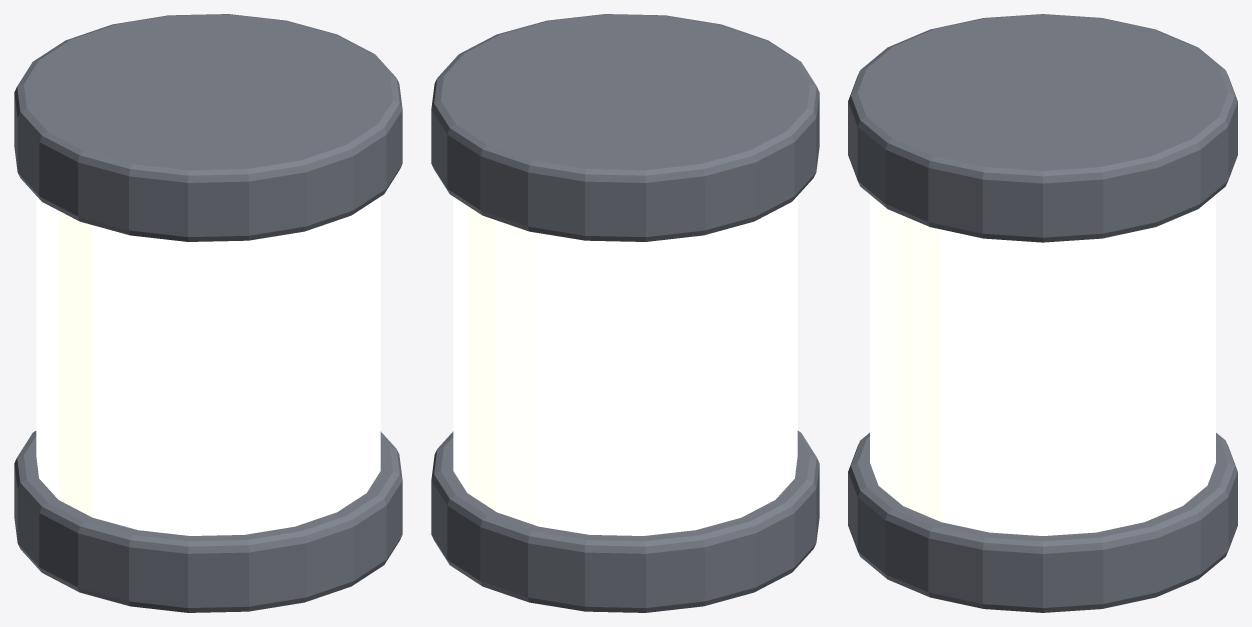
The model's file is EnrichedUranium.fbx.
The picture shows the model from 3 angles, left to right: view 1: azimuth 30°, elevation 25°; view 2: azimuth 150°, elevation 25°; view 3: azimuth 270°, elevation 25°; orthographic projection.
Visible parts, largest first — view 1: MainMesh; view 2: MainMesh; view 3: MainMesh.
Part boxes in pixels (x1,y1,x2,y2): MainMesh: (14,14,402,612); MainMesh: (431,14,819,612); MainMesh: (848,14,1237,612).
Bounding box in the file's own units: 1.24 × 1.58 × 1.24.
